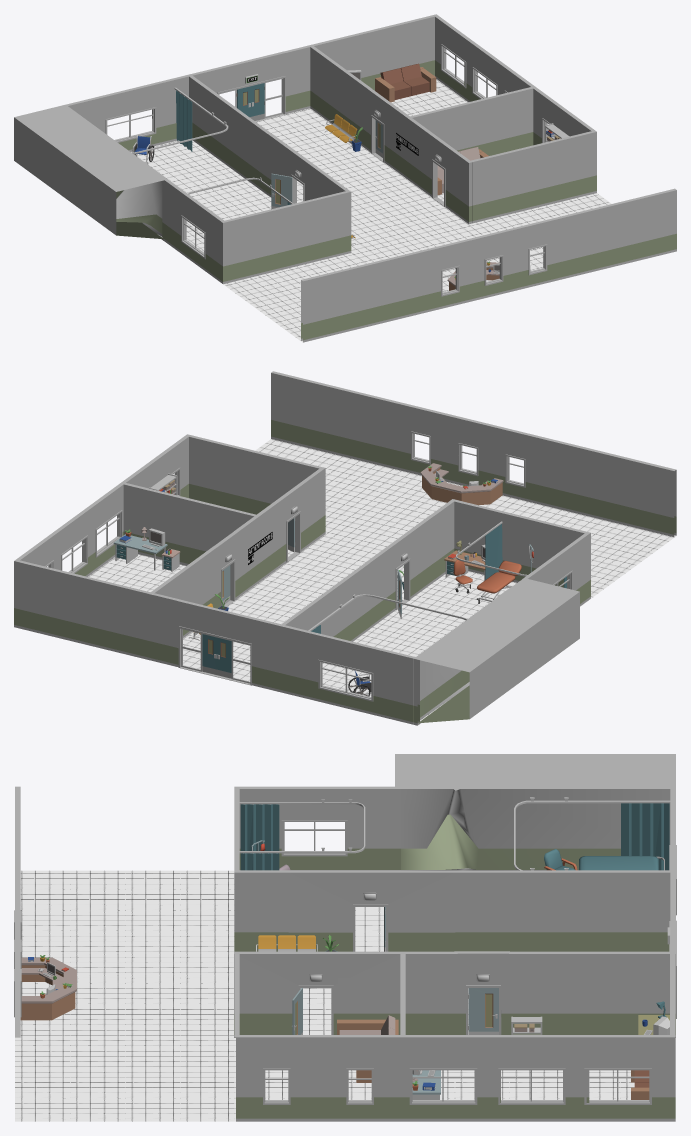
The model's file is hopital.fbx.
3 views of the same model, one above another, from view 1: azimuth 30°, elevation 25°; view 2: azimuth 150°, elevation 25°; view 3: azimuth 270°, elevation 25° (orthographic). The views are drawn at different scales.
Visible parts, largest first — view 1: SM_Wall_807, SM_Floor_186 (×3), SM_Wall_Window_A_800:SM_Wall_Window_A_800, SM_Wall_802, SM_Wall_803, SM_Wall_806, SM_Wall_805, SM_Wall_808, SM_Wall_801:SM_Wall_600, SM_Wall_800:SM_Wall_800, SM_Wall_Window_B_600:SM_Wall_Window_B_600, SM_Floor_189 (+24 smaller); view 2: SM_Wall_807, SM_Floor_186 (×4), SM_Wall_808, SM_Wall_806, SM_Wall_Window_A_800:SM_Wall_Window_A_800, SM_Wall_805, SM_Wall_Window_B_600:SM_Wall_Window_B_600, SM_Wall_803, SM_Wall_801:SM_Wall_600, SM_Wall_802, SM_Floor_194, SM_DoorFrame_603 (+28 smaller); view 3: SM_Wall_807, SM_Wall_800:SM_Wall_800, SM_Wall_Window_A_600:SM_Wall_Window_A_600, SM_Wall_600, SM_DoorFrame_602:SM_DoorFrame_600, SM_DoorFrame_603, SM_Floor_193, SM_Floor_192, SM_Floor_197, SM_Floor_196, SM_Wall_Window_B_601:SM_Wall_Window_B_601, SM_Floor_194 (+23 smaller).
Boxes of the visible parts, <box> form: SM_Wall_807: <box>14,105,167,240</box>; SM_Floor_186 (×3): <box>209,108,467,237</box>; SM_Wall_Window_A_800:SM_Wall_Window_A_800: <box>420,217,561,313</box>; SM_Wall_802: <box>221,191,351,284</box>; SM_Wall_803: <box>469,131,596,224</box>; SM_Wall_806: <box>301,251,422,342</box>; SM_Wall_805: <box>560,188,676,279</box>; SM_Wall_808: <box>285,15,434,113</box>; SM_Wall_801:SM_Wall_600: <box>407,86,535,155</box>; SM_Wall_800:SM_Wall_800: <box>188,74,270,195</box>; SM_Wall_Window_B_600:SM_Wall_Window_B_600: <box>62,75,191,151</box>; SM_Floor_189: <box>131,140,266,209</box>; SM_Wall_807: <box>413,578,579,725</box>; SM_Floor_186 (×4): <box>104,534,516,669</box>; SM_Wall_808: <box>14,560,179,666</box>; SM_Wall_806: <box>545,438,676,536</box>; SM_Wall_Window_A_800:SM_Wall_Window_A_800: <box>395,401,548,505</box>; SM_Wall_805: <box>271,371,397,468</box>; SM_Wall_Window_B_600:SM_Wall_Window_B_600: <box>279,624,419,725</box>; SM_Wall_803: <box>187,434,321,514</box>; SM_Wall_801:SM_Wall_600: <box>120,483,258,565</box>; SM_Wall_802: <box>454,500,586,587</box>; SM_Floor_194: <box>325,472,462,548</box>; SM_DoorFrame_603: <box>256,467,325,581</box>; SM_Wall_807: <box>395,754,675,870</box>; SM_Wall_800:SM_Wall_800: <box>455,870,675,951</box>; SM_Wall_Window_A_600:SM_Wall_Window_A_600: <box>236,1035,402,1121</box>; SM_Wall_600: <box>509,951,675,1037</box>; SM_DoorFrame_602:SM_DoorFrame_600: <box>288,870,455,951</box>; SM_DoorFrame_603: <box>234,951,400,1037</box>; SM_Floor_193: <box>15,1038,235,1079</box>; SM_Floor_192: <box>15,1080,235,1121</box>; SM_Floor_197: <box>20,870,234,912</box>; SM_Floor_196: <box>21,912,234,954</box>; SM_Wall_Window_B_601:SM_Wall_Window_B_601: <box>235,786,400,870</box>; SM_Floor_194: <box>15,996,233,1037</box>.
Bounding box in the file's own units: 2414 × 335 × 2383.
